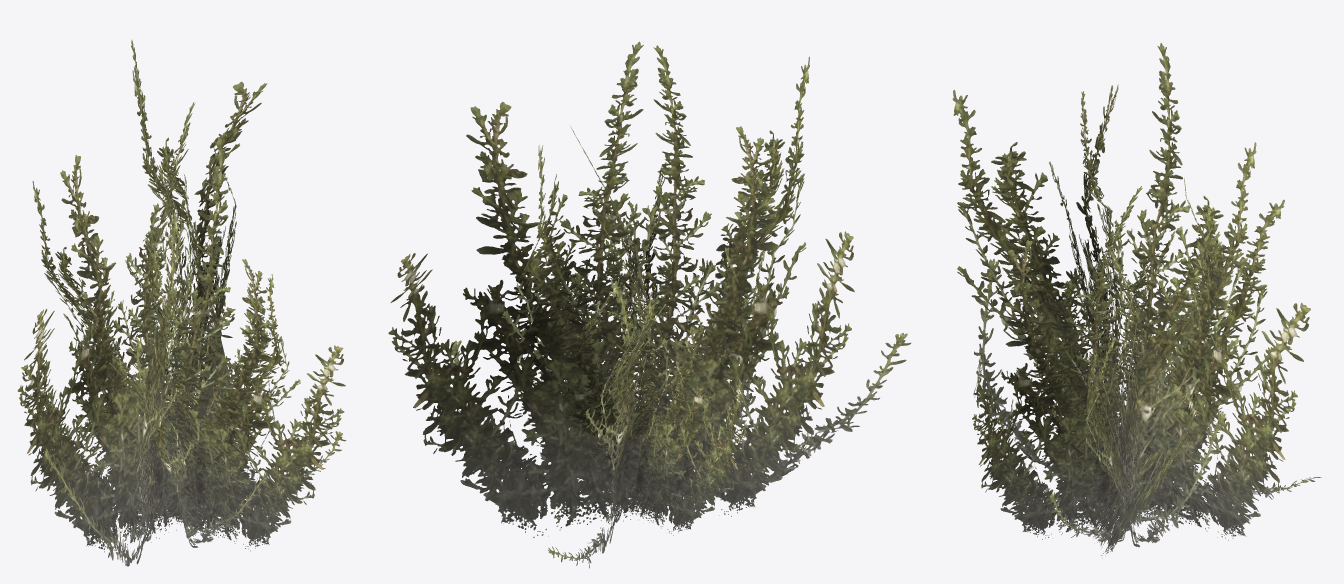
The model's file is prop_small_bushyba.FBX.
3 renders of one model, left to right at view 1: azimuth 30°, elevation 25°; view 2: azimuth 150°, elevation 25°; view 3: azimuth 270°, elevation 25°, orthographic. The views are drawn at different scales.
Visible parts, largest first — view 1: prop_small_bushyba; view 2: prop_small_bushyba; view 3: prop_small_bushyba.
Boxes of the visible parts, x1,y1,x2,y2 form: prop_small_bushyba: (17, 39, 346, 566); prop_small_bushyba: (388, 41, 911, 568); prop_small_bushyba: (952, 43, 1321, 558).
Bounding box in the file's own units: 1.01 × 0.9395 × 1.4.
1 material, 1 textured.
